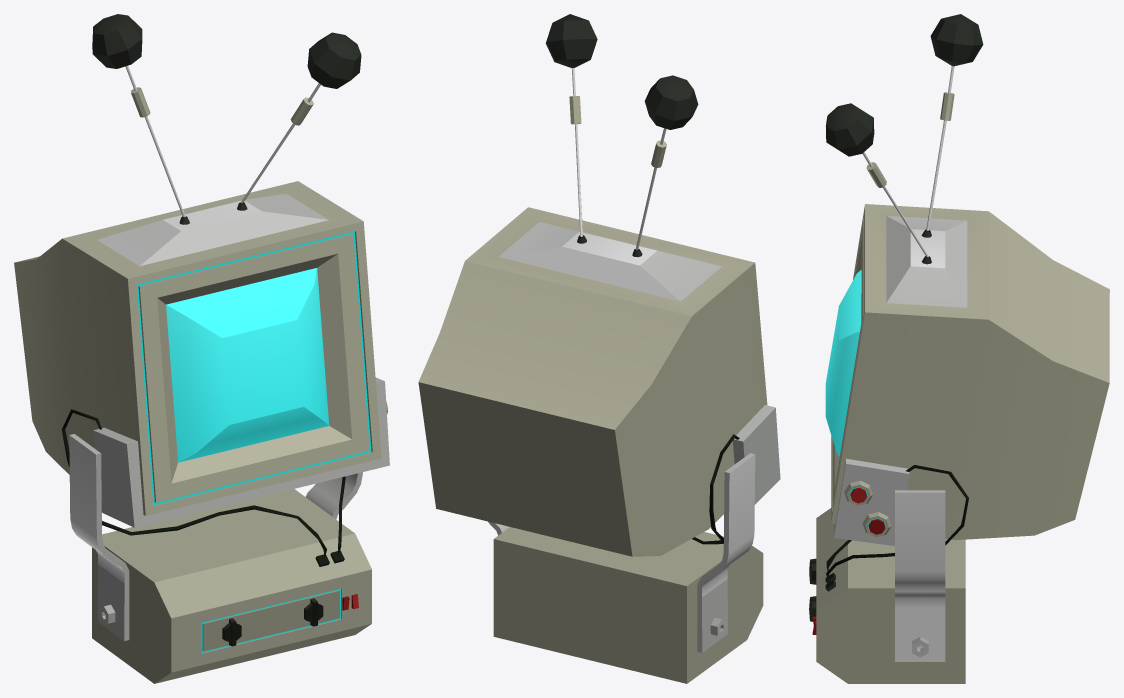
Rendered from Old_TV.glb.
3 renders of one model, left to right at view 1: azimuth 30°, elevation 25°; view 2: azimuth 150°, elevation 25°; view 3: azimuth 270°, elevation 25°, orthographic. The views are drawn at different scales.
Visible parts, largest first — view 1: oldPC; view 2: oldPC; view 3: oldPC.
Part boxes in pixels (x1,y1,x2,y2): oldPC: [14, 14, 389, 683]; oldPC: [418, 14, 780, 683]; oldPC: [809, 14, 1109, 683].
Size of what is drawn, in the model's own units: 0.7447 by 1.61 by 0.7528.
Materials: 1 (1 with a texture image).
